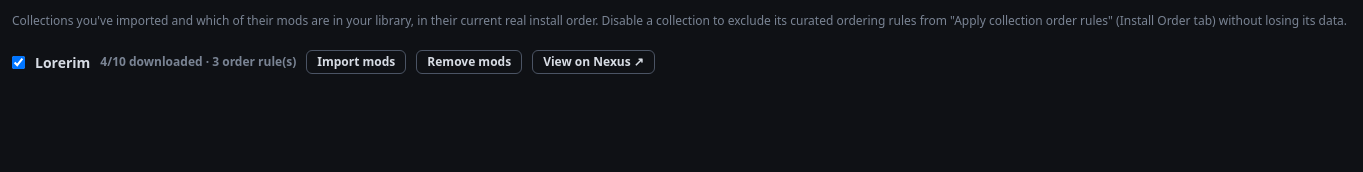
Test: CollectionsTab › Remove mods with nothing exclusive shows hint, no confirm, no post
What coordinates should you click on to do the following:
click the button "Remove mods"
I would click on:
 (469, 62)
Its box is [416, 50, 522, 74].
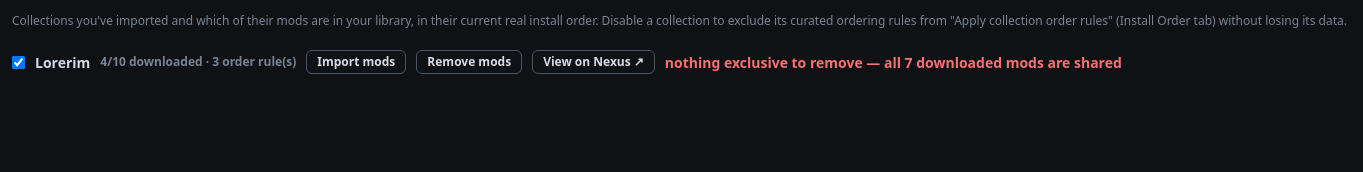
Expected: the text "all 7 downloaded mods are shared" is shown, [665, 52, 1122, 72]
